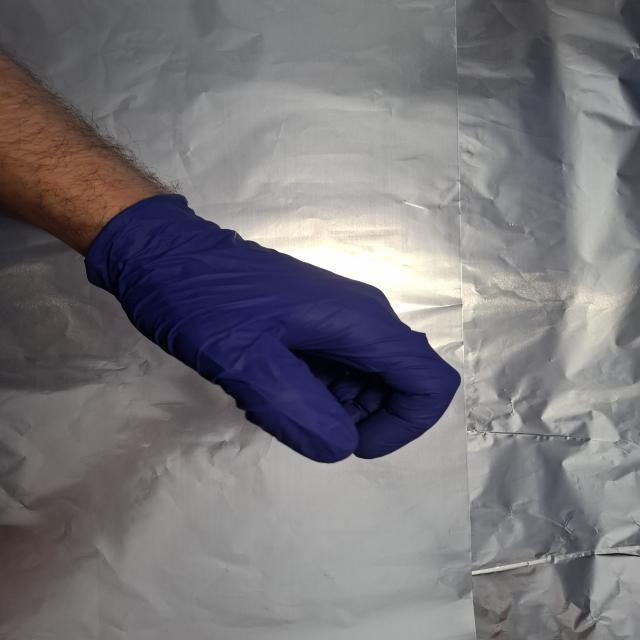glove_on: (80, 194, 465, 466)
